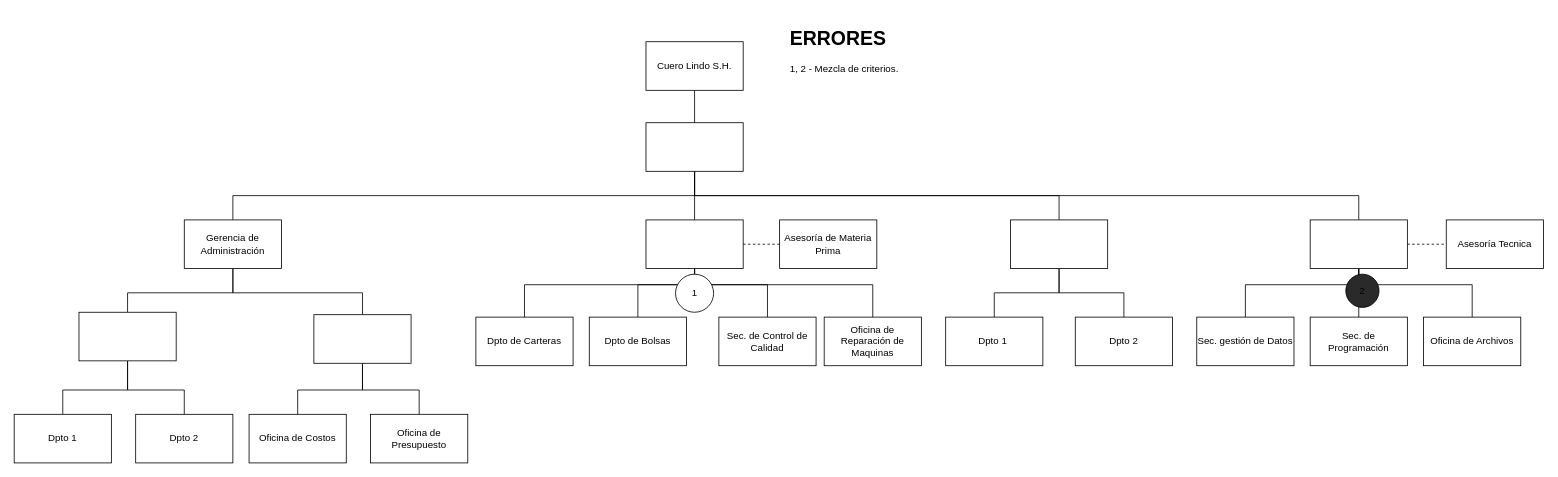
The diagram is 1558 pixels wide and 477 high, and some of its shapes have lost their labels. The centre of each missing label's shape, as x and y in pixels:
"Gerencia de Producción" goes at point 694,244.
"Gerencia de Sistemas" goes at point 1358,244.
"Gerencia de Ventas" goes at point 1059,244.
"Gerencia Gral" goes at point 694,146.
"Sec de Finanzas" goes at point 127,336.
"Sec. Contabilidad" goes at point 362,338.
